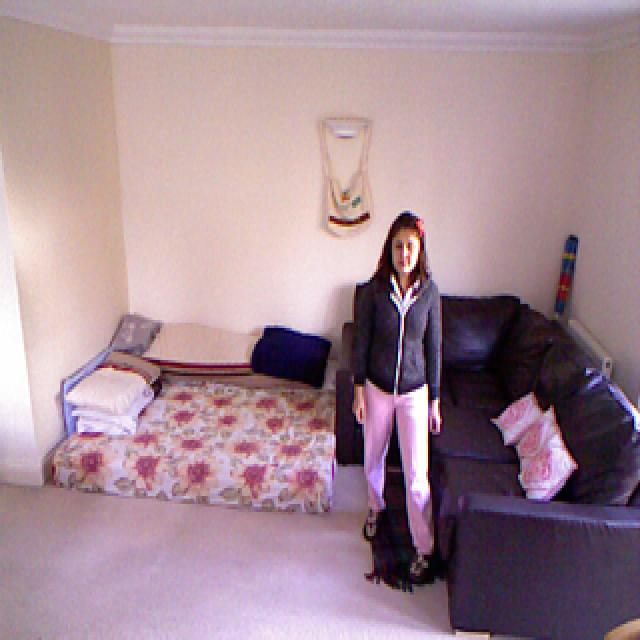standing: (350, 213, 444, 581)
